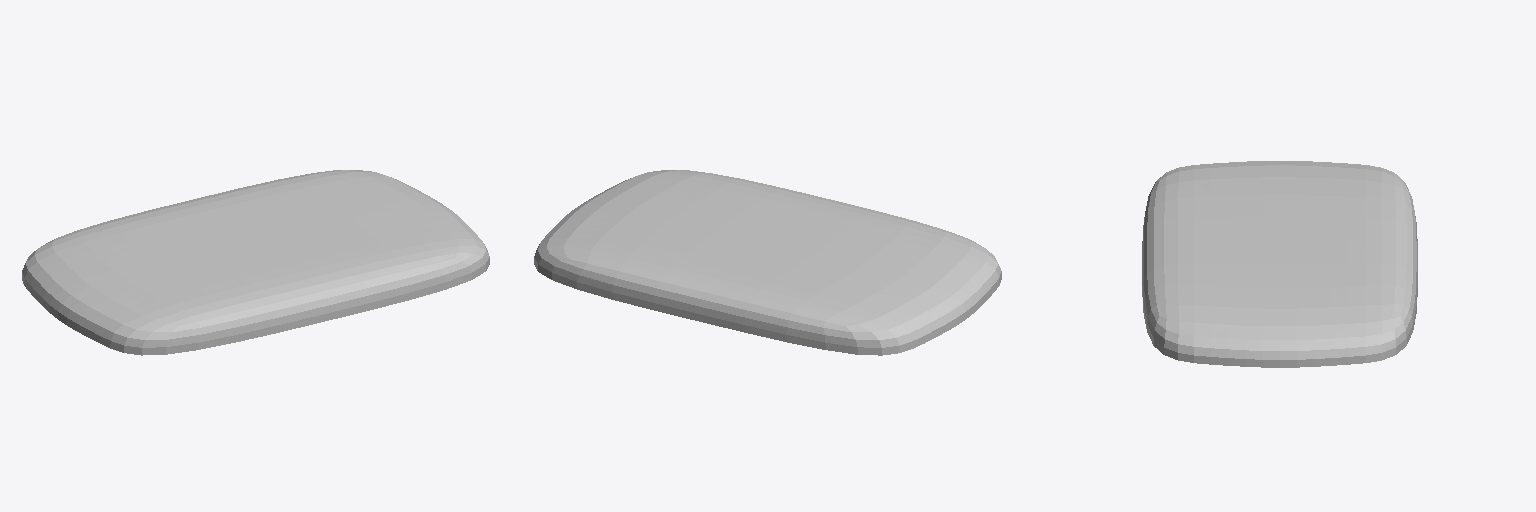
Rendered from kitchen-models_door-mat.obj.
The picture shows the model from 3 angles: view 1: azimuth 30°, elevation 25°; view 2: azimuth 150°, elevation 25°; view 3: azimuth 270°, elevation 25°; orthographic projection.
Parts seen in each view (by area): view 1: Plane; view 2: Plane; view 3: Plane.
Part boxes in pixels (left/top/right/bottom): Plane: left=22, top=170, right=489, bottom=355; Plane: left=534, top=170, right=1001, bottom=355; Plane: left=1142, top=161, right=1417, bottom=367.
Size of the model in its own units: 0.9593 by 0.07 by 0.5779.